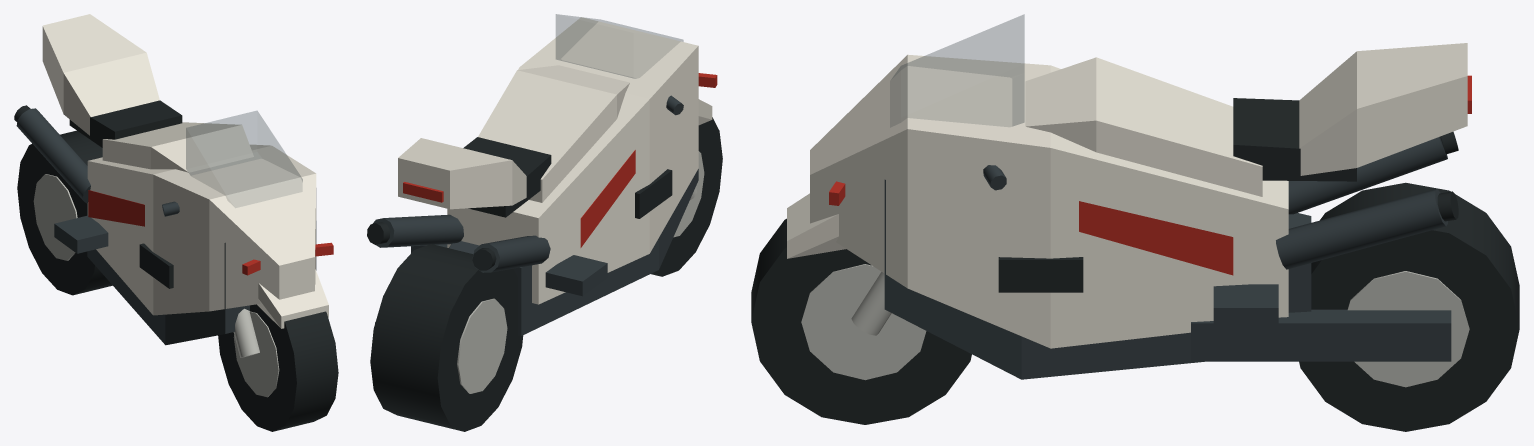
The picture shows the model from 3 angles, left to right: view 1: azimuth 30°, elevation 25°; view 2: azimuth 150°, elevation 25°; view 3: azimuth 270°, elevation 25°; orthographic projection. The views are drawn at different scales.
Visible parts, largest first — view 1: motorcycle-fleet-armor, front-wheel-fleet-rubber, motorcycle-fleet-machine, motorcycle-fleet-glass, rear-wheel-fleet-rubber, motorcycle-fleet-rubber, rear-wheel-fleet-edge, front-wheel-fleet-edge, motorcycle-fleet-red, steering-fleet-armor, steering-fleet-edge; view 2: motorcycle-fleet-armor, rear-wheel-fleet-rubber, motorcycle-fleet-machine, motorcycle-fleet-glass, motorcycle-fleet-rubber, rear-wheel-fleet-edge, front-wheel-fleet-rubber, motorcycle-fleet-red, front-wheel-fleet-edge; view 3: motorcycle-fleet-armor, motorcycle-fleet-machine, rear-wheel-fleet-rubber, front-wheel-fleet-rubber, motorcycle-fleet-glass, motorcycle-fleet-rubber, front-wheel-fleet-edge, rear-wheel-fleet-edge, motorcycle-fleet-red, steering-fleet-armor, steering-fleet-edge.
Part boxes in pixels (box(x1,y1,x2,y2)): motorcycle-fleet-armor: box(42, 14, 316, 315); front-wheel-fleet-rubber: box(218, 304, 338, 431); motorcycle-fleet-machine: box(16, 108, 316, 345); motorcycle-fleet-glass: box(186, 111, 302, 207); rear-wheel-fleet-rubber: box(17, 130, 112, 295); motorcycle-fleet-rubber: box(14, 100, 182, 288); rear-wheel-fleet-edge: box(33, 174, 77, 260); front-wheel-fleet-edge: box(233, 311, 279, 397); motorcycle-fleet-red: box(88, 190, 333, 275); steering-fleet-armor: box(257, 269, 328, 328); steering-fleet-edge: box(233, 308, 259, 357); motorcycle-fleet-armor: box(398, 17, 698, 304); rear-wheel-fleet-rubber: box(370, 244, 523, 431); motorcycle-fleet-machine: box(372, 169, 698, 335); motorcycle-fleet-glass: box(556, 14, 683, 78); motorcycle-fleet-rubber: box(367, 137, 672, 270); rear-wheel-fleet-edge: box(457, 298, 507, 393); front-wheel-fleet-rubber: box(651, 117, 722, 276); motorcycle-fleet-red: box(403, 73, 717, 247); front-wheel-fleet-edge: box(673, 151, 704, 237); motorcycle-fleet-armor: box(810, 43, 1467, 348); motorcycle-fleet-machine: box(884, 136, 1451, 379); rear-wheel-fleet-rubber: box(1299, 182, 1519, 431); front-wheel-fleet-rubber: box(751, 218, 971, 424); motorcycle-fleet-glass: box(890, 14, 1024, 126); motorcycle-fleet-rubber: box(998, 98, 1458, 292); front-wheel-fleet-edge: box(801, 264, 926, 380); rear-wheel-fleet-edge: box(1347, 271, 1469, 387); motorcycle-fleet-red: box(829, 75, 1471, 275); steering-fleet-armor: box(787, 193, 845, 258); steering-fleet-edge: box(851, 272, 891, 335).
Bounding box in the file's own units: 4.14 × 6.6 × 12.37.
